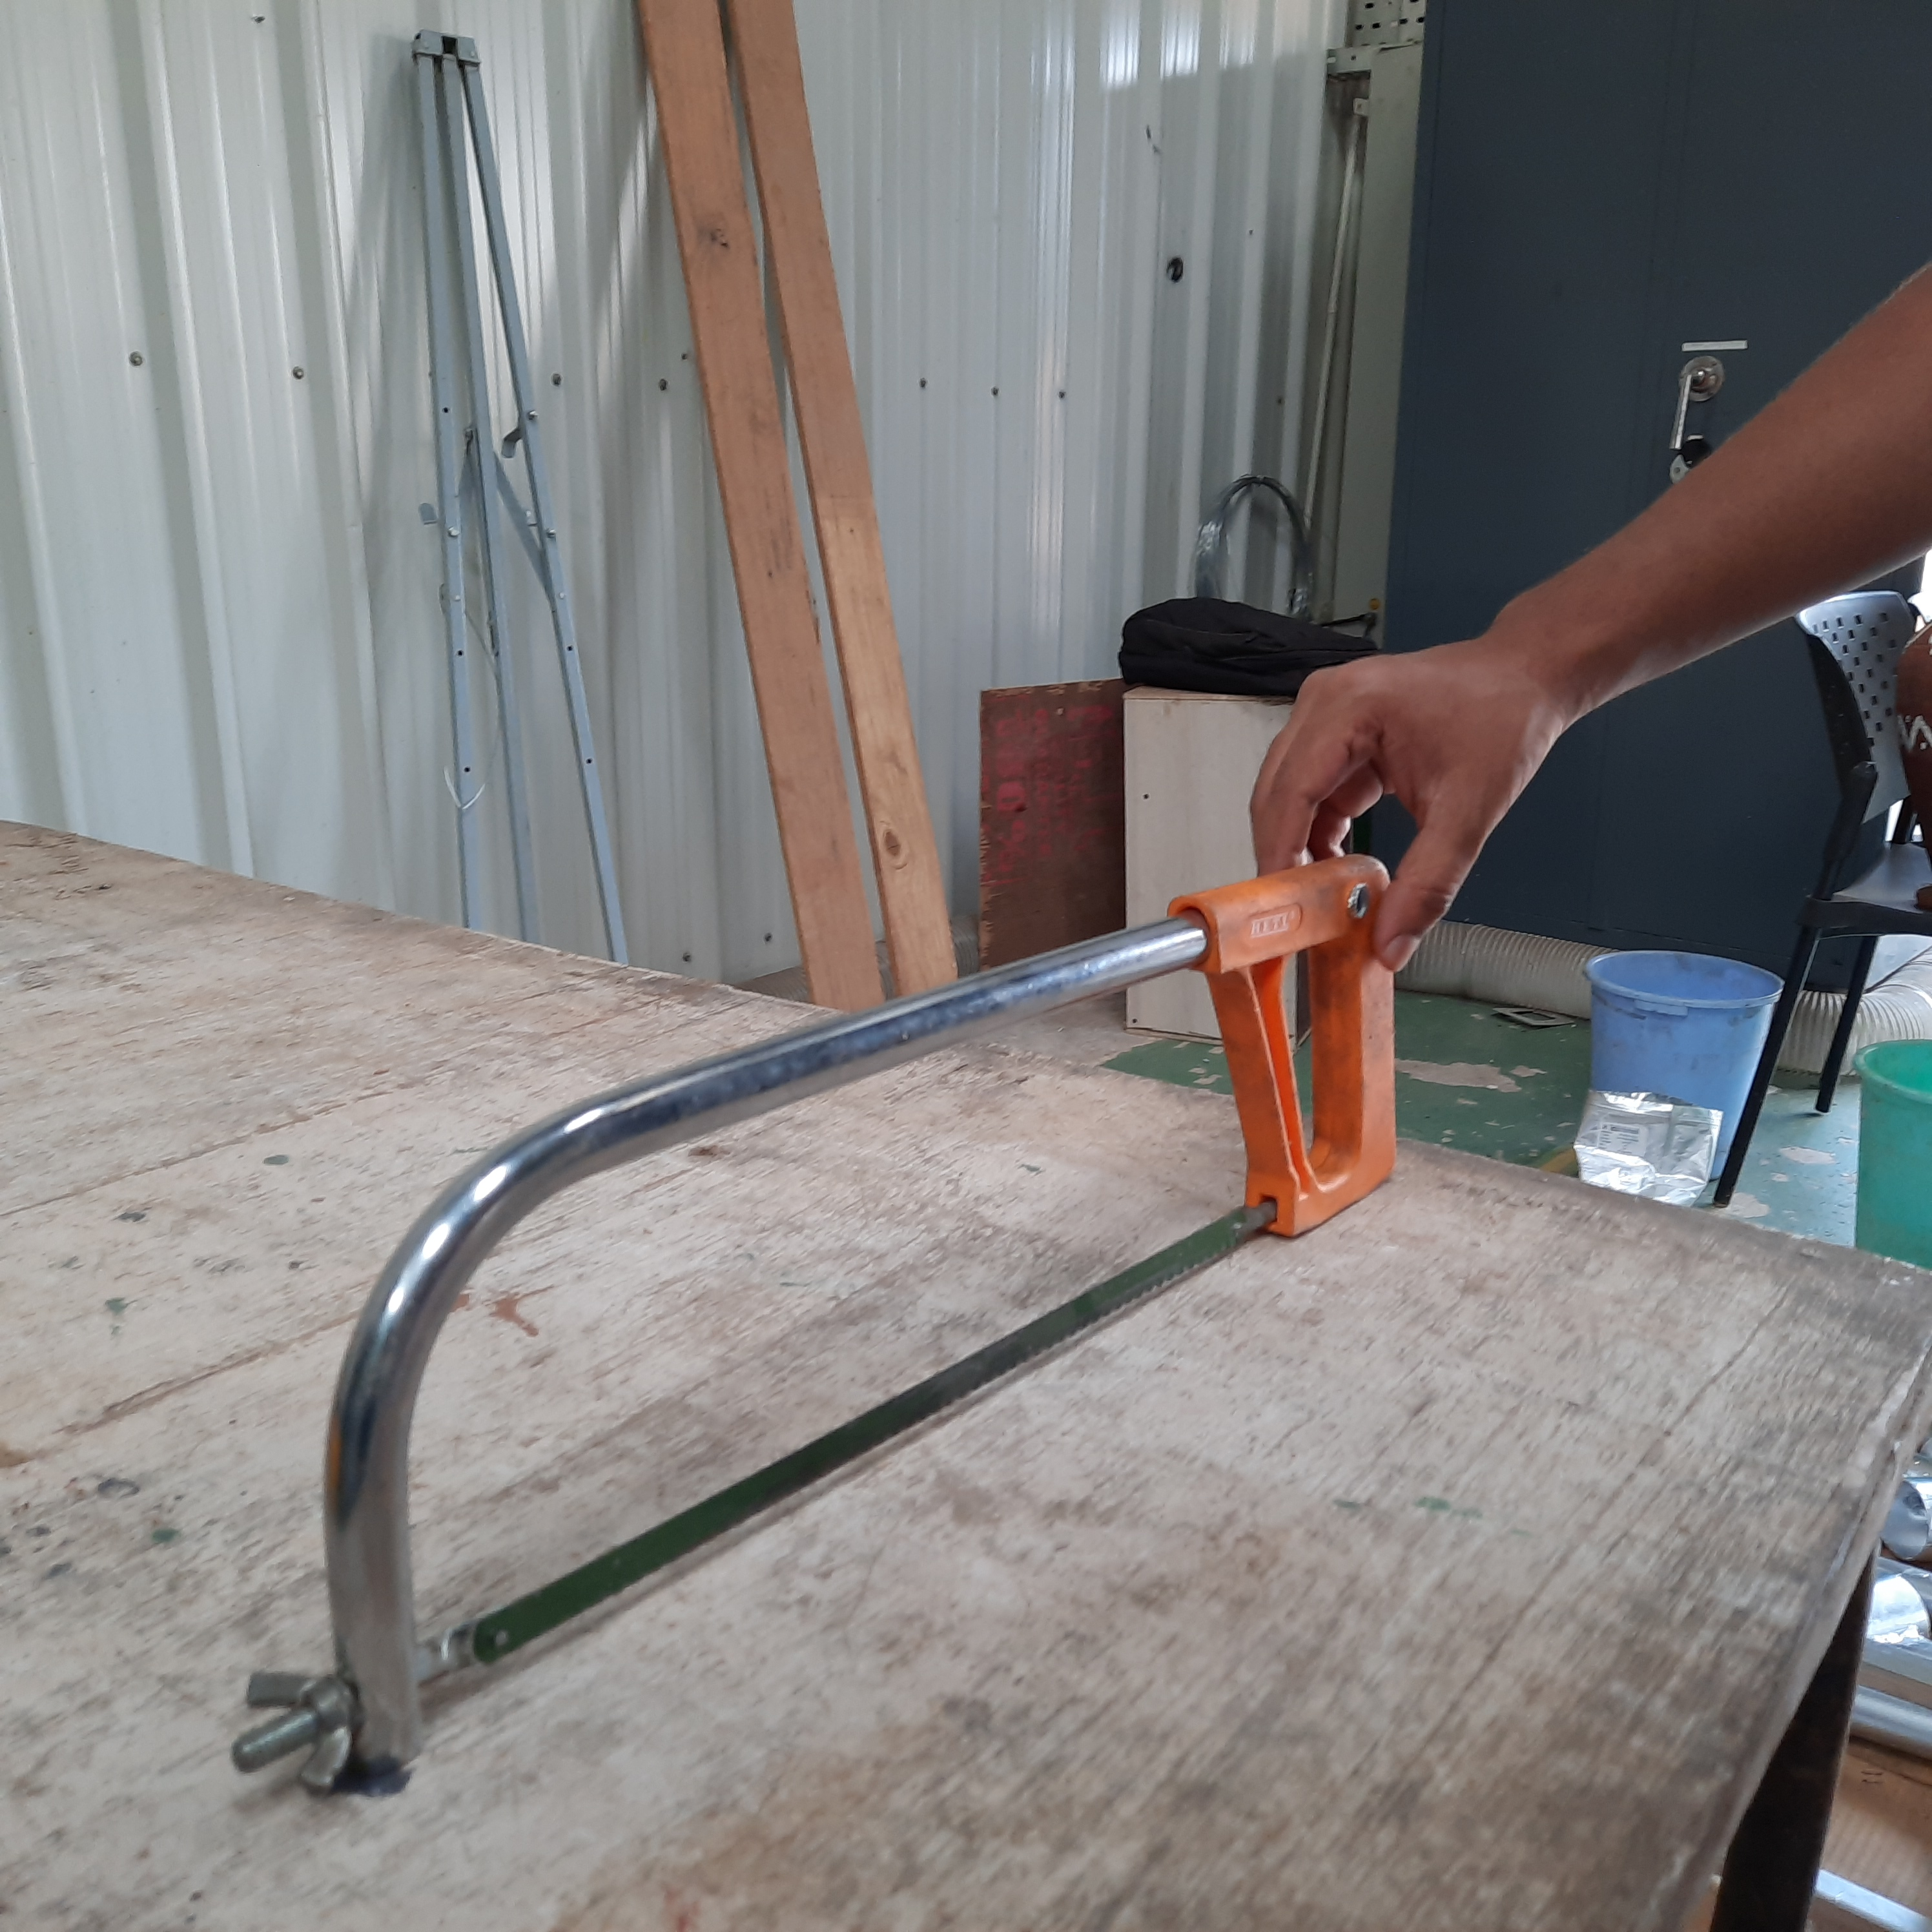Hexaframe: (142, 853, 1430, 1817)
